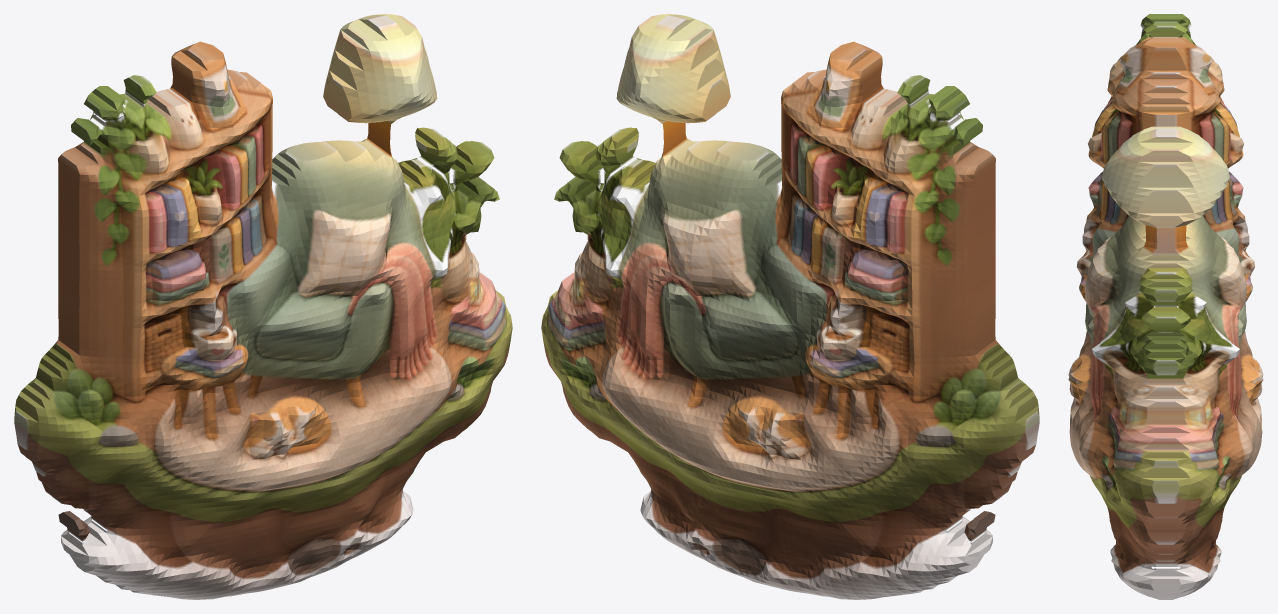
File: okuma-kosesi.glb
The picture shows the model from 3 angles, left to right: view 1: azimuth 30°, elevation 25°; view 2: azimuth 150°, elevation 25°; view 3: azimuth 270°, elevation 25°; orthographic projection. The views are drawn at different scales.
Parts seen in each view (by area): view 1: geometry_0; view 2: geometry_0; view 3: geometry_0.
Boxes of the visible parts, x1=… form: geometry_0: x1=14, y1=14, x2=512, y2=599; geometry_0: x1=541, y1=14, x2=1039, y2=599; geometry_0: x1=1068, y1=14, x2=1263, y2=599.
Size of the model in its own units: 0.791 by 0.8496 by 0.3005.
1 material, 1 textured.
